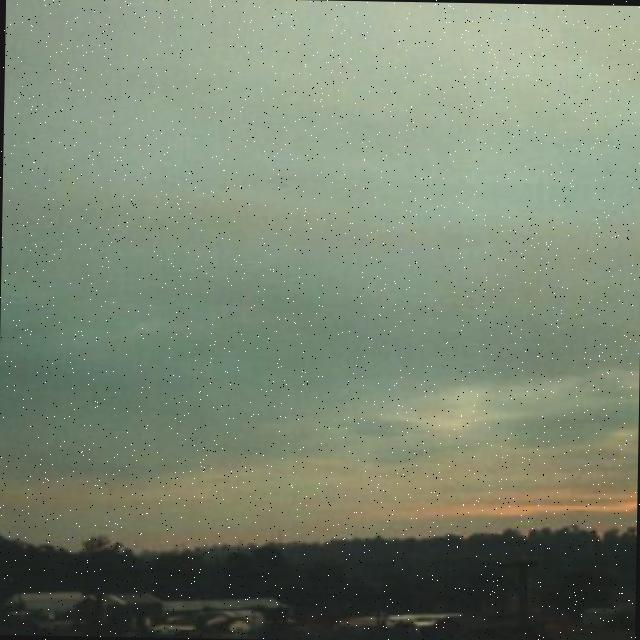Ns: (1, 124, 622, 512)
